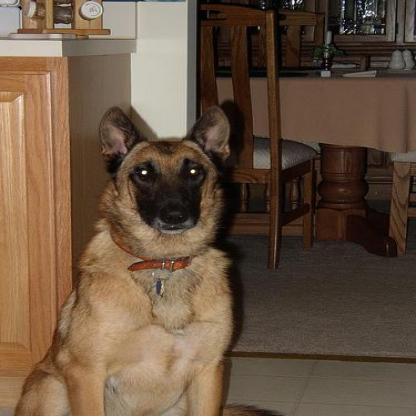malinois: (13, 101, 241, 414)
